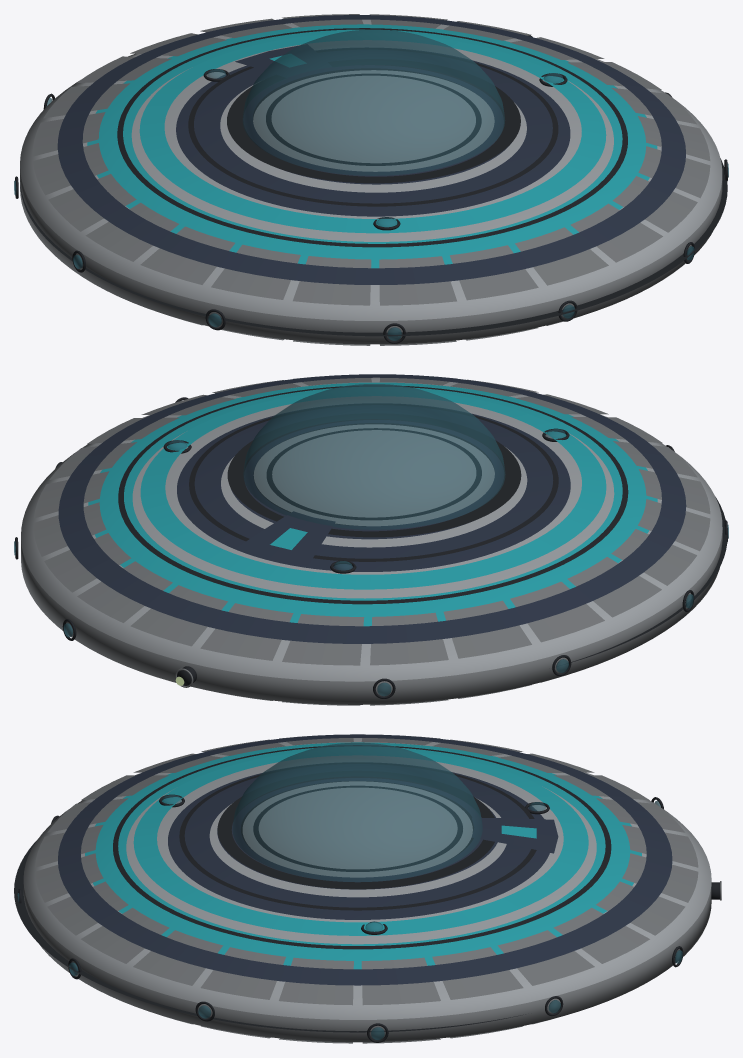
Rendered from Ship_FlyingSaucer_910512.glb.
3 renders of one model, top to bottom at view 1: azimuth 30°, elevation 25°; view 2: azimuth 150°, elevation 25°; view 3: azimuth 270°, elevation 25°, orthographic. The views are drawn at different scales.
Visible parts, largest first — view 1: Hull_LenticularThickDiscBody, CommandDomeGlass_CenteredFlattenedDome, PaintRing_Top_03_ConcentricBand, PaintRing_Top_02_ConcentricBand, CommandDomeFrame_UpperCircularRim, PanelRing_Top_03_DarkInsetLine, PaintRing_Top_01_ConcentricBand, EquatorBand_DarkContinuousRimSeam, PanelRing_Top_02_DarkInsetLine, RimArmorSegment_16_UpperHullPlate, RimArmorSegment_17_UpperHullPlate, RimArmorSegment_15_UpperHullPlate (+21 smaller); view 2: Hull_LenticularThickDiscBody, CommandDomeGlass_CenteredFlattenedDome, PaintRing_Top_03_ConcentricBand, PaintRing_Top_02_ConcentricBand, CommandDomeFrame_UpperCircularRim, PanelRing_Top_03_DarkInsetLine, PaintRing_Top_01_ConcentricBand, PanelRing_Top_02_DarkInsetLine, Decal_ForwardGlyph_PrimaryArrowPlate, RimArmorSegment_08_UpperHullPlate, RimArmorSegment_09_UpperHullPlate, RimArmorSegment_07_UpperHullPlate (+19 smaller); view 3: Hull_LenticularThickDiscBody, CommandDomeGlass_CenteredFlattenedDome, PaintRing_Top_03_ConcentricBand, PaintRing_Top_02_ConcentricBand, CommandDomeFrame_UpperCircularRim, PanelRing_Top_03_DarkInsetLine, PaintRing_Top_01_ConcentricBand, PanelRing_Top_02_DarkInsetLine, EquatorBand_DarkContinuousRimSeam, RimArmorSegment_01_UpperHullPlate, RimArmorSegment_02_UpperHullPlate, Decal_ForwardGlyph_PrimaryArrowPlate (+19 smaller).
Boxes of the visible parts, <box> form: Hull_LenticularThickDiscBody: <box>20,19,722,344</box>; CommandDomeGlass_CenteredFlattenedDome: <box>242,29,505,175</box>; PaintRing_Top_03_ConcentricBand: <box>57,15,685,284</box>; PaintRing_Top_02_ConcentricBand: <box>139,33,606,233</box>; CommandDomeFrame_UpperCircularRim: <box>227,59,520,183</box>; PanelRing_Top_03_DarkInsetLine: <box>117,28,627,247</box>; PaintRing_Top_01_ConcentricBand: <box>243,65,511,184</box>; EquatorBand_DarkContinuousRimSeam: <box>20,158,727,336</box>; PanelRing_Top_02_DarkInsetLine: <box>188,48,558,206</box>; RimArmorSegment_16_UpperHullPlate: <box>293,256,371,305</box>; RimArmorSegment_17_UpperHullPlate: <box>379,256,456,305</box>; RimArmorSegment_15_UpperHullPlate: <box>211,244,300,299</box>; Hull_LenticularThickDiscBody: <box>21,377,722,704</box>; CommandDomeGlass_CenteredFlattenedDome: <box>243,384,505,529</box>; PaintRing_Top_03_ConcentricBand: <box>58,374,686,643</box>; PaintRing_Top_02_ConcentricBand: <box>140,390,606,589</box>; CommandDomeFrame_UpperCircularRim: <box>227,413,521,537</box>; PanelRing_Top_03_DarkInsetLine: <box>118,385,628,604</box>; PaintRing_Top_01_ConcentricBand: <box>231,420,504,539</box>; PanelRing_Top_02_DarkInsetLine: <box>189,403,558,561</box>; Decal_ForwardGlyph_PrimaryArrowPlate: <box>235,511,335,566</box>; RimArmorSegment_08_UpperHullPlate: <box>282,614,364,665</box>; RimArmorSegment_09_UpperHullPlate: <box>370,612,448,665</box>; RimArmorSegment_07_UpperHullPlate: <box>200,603,293,660</box>; Hull_LenticularThickDiscBody: <box>23,738,711,1042</box>; CommandDomeGlass_CenteredFlattenedDome: <box>232,742,482,882</box>; PaintRing_Top_03_ConcentricBand: <box>58,734,672,985</box>; PaintRing_Top_02_ConcentricBand: <box>133,749,588,935</box>; CommandDomeFrame_UpperCircularRim: <box>217,771,494,889</box>; PanelRing_Top_03_DarkInsetLine: <box>113,745,611,949</box>; PaintRing_Top_01_ConcentricBand: <box>217,778,497,889</box>; PanelRing_Top_02_DarkInsetLine: <box>179,762,536,910</box>; EquatorBand_DarkContinuousRimSeam: <box>14,840,525,1032</box>; RimArmorSegment_01_UpperHullPlate: <box>361,957,440,1005</box>; RimArmorSegment_02_UpperHullPlate: <box>432,947,523,999</box>; Decal_ForwardGlyph_PrimaryArrowPlate: <box>472,817,558,853</box>.
Bounding box in the file's own units: 5.16 × 1.68 × 5.46.
